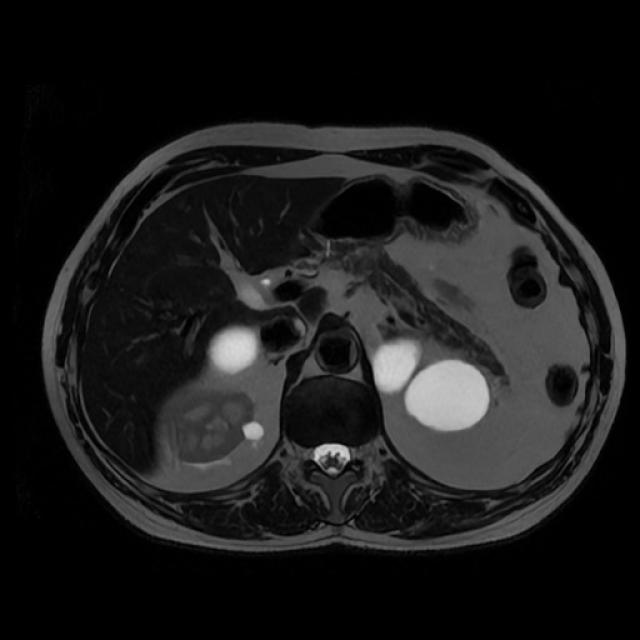sag: (169, 387, 263, 465), (210, 327, 258, 372)
sol: (374, 339, 488, 431)
